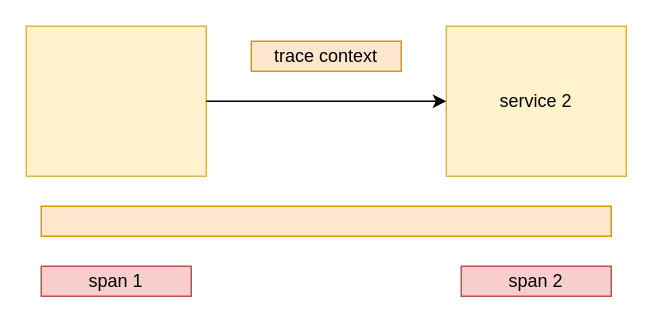
Image size: 653x323. Some labels were removed from this diagram. Each missing label, with the box of its shape:
service 1: (25, 25, 206, 176)
trace 1: (40, 205, 611, 236)
